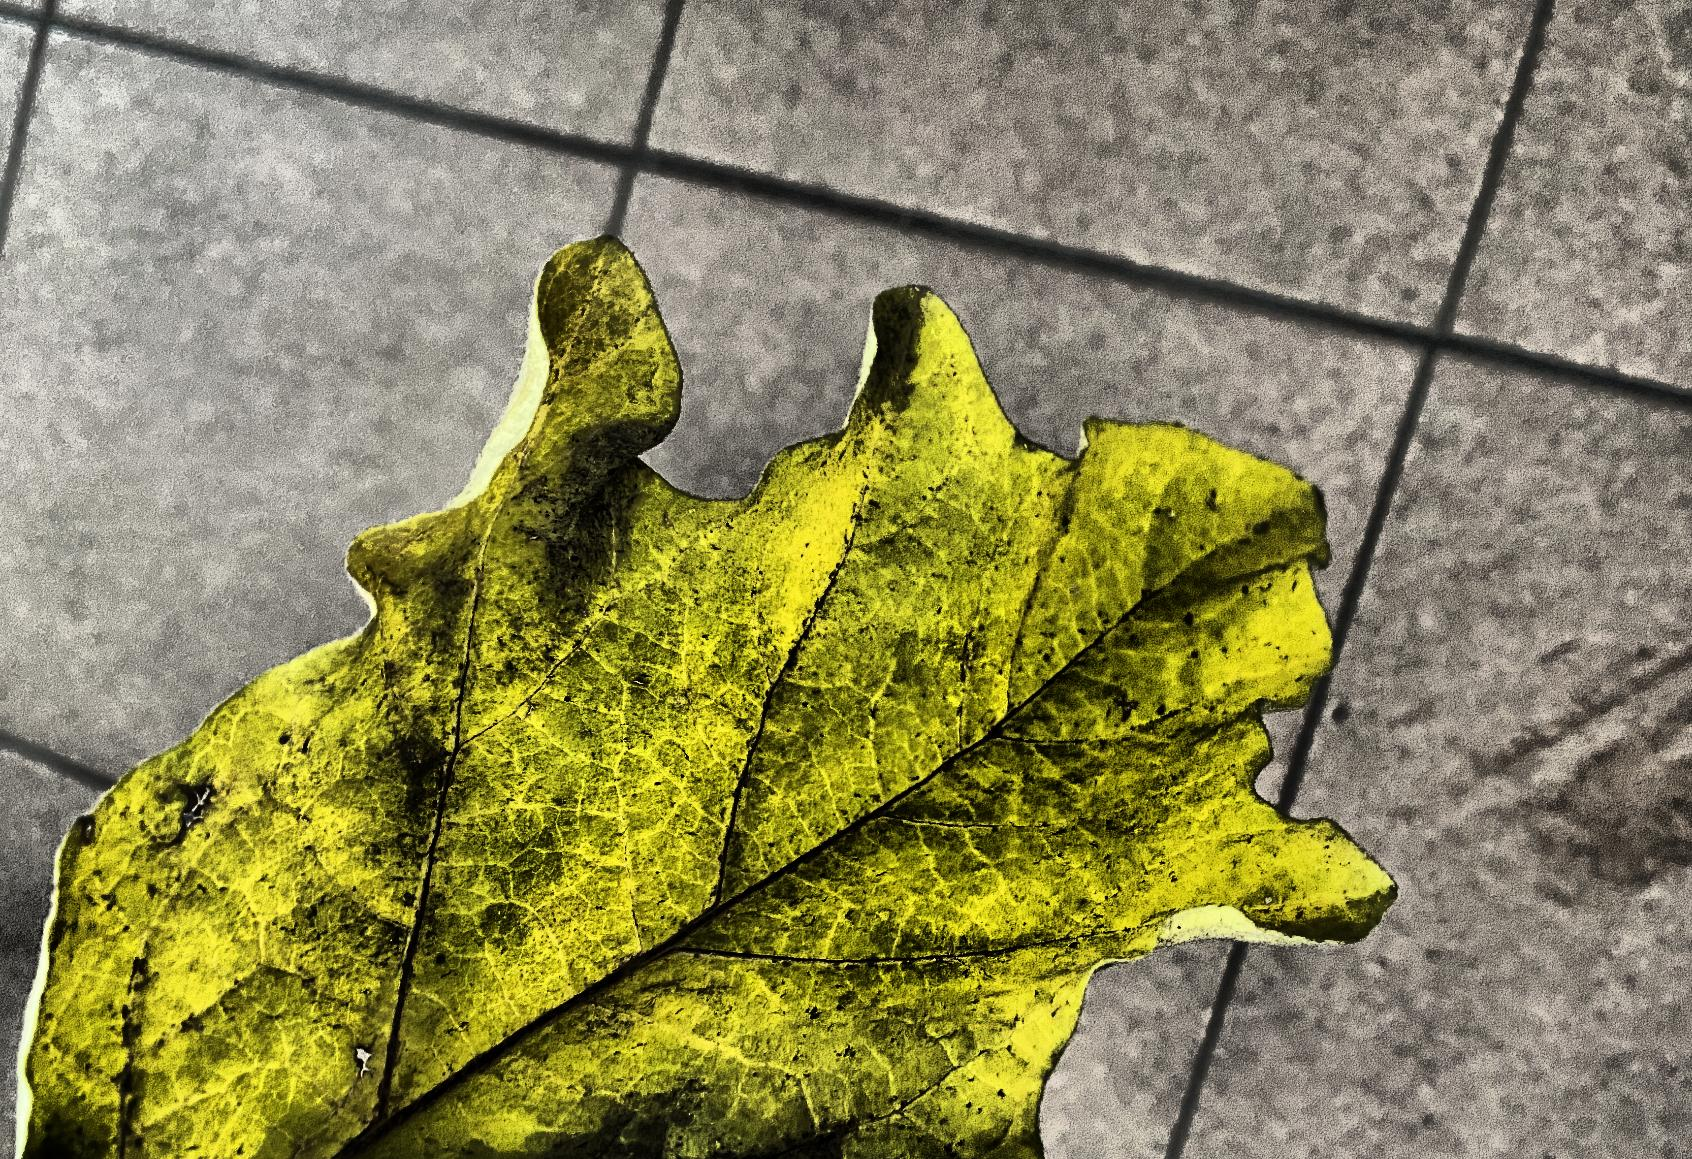Critical Stress: (0, 6, 1261, 1159)
